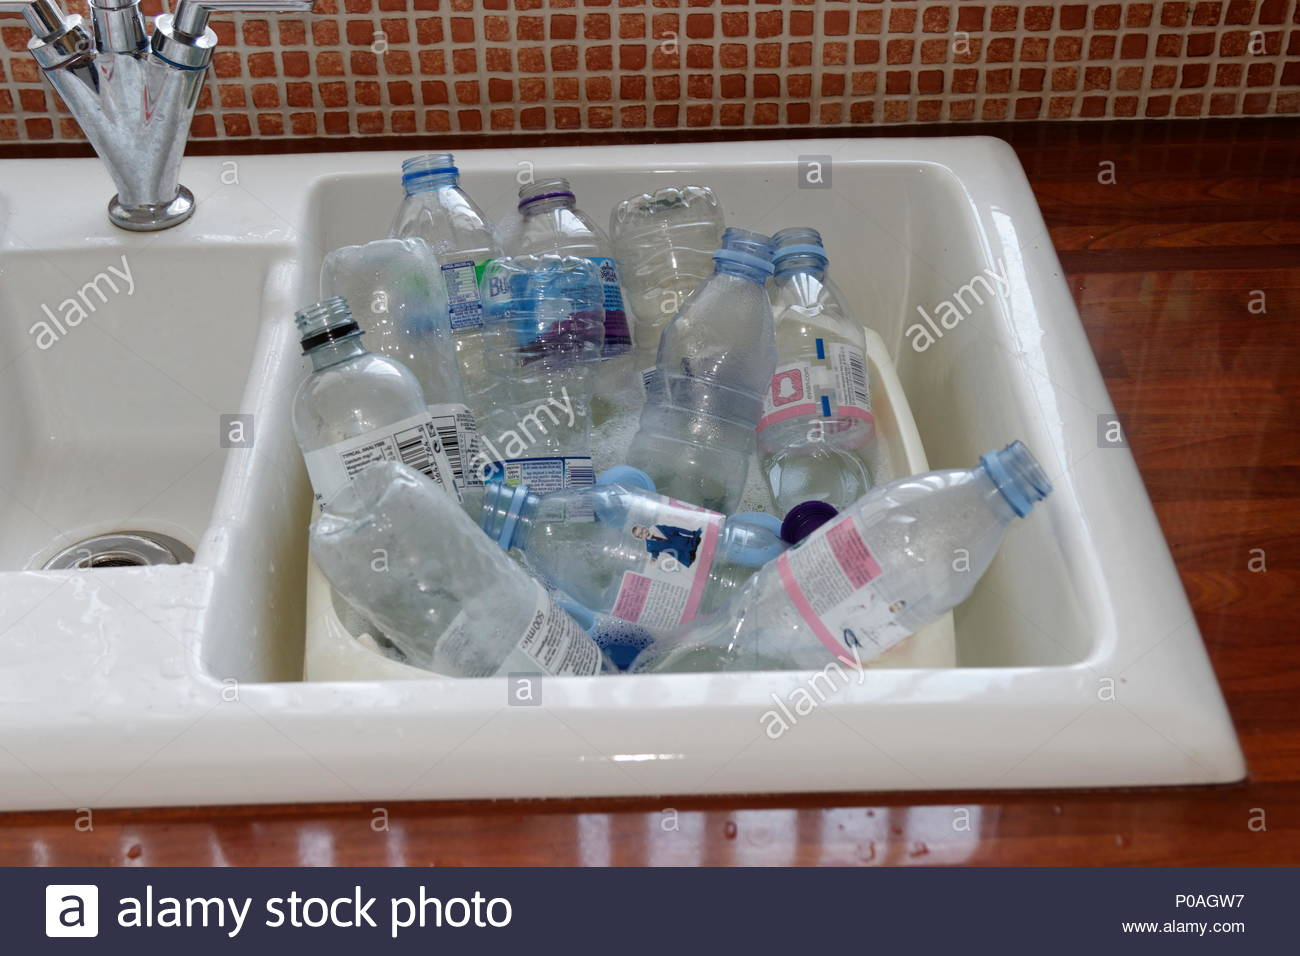plastic_bottle: (601, 385, 1179, 801), (241, 402, 701, 811), (727, 101, 1041, 660), (435, 348, 911, 706), (590, 68, 975, 487), (253, 196, 564, 695), (314, 174, 579, 691), (496, 54, 697, 616), (350, 79, 556, 608), (629, 135, 813, 623)
